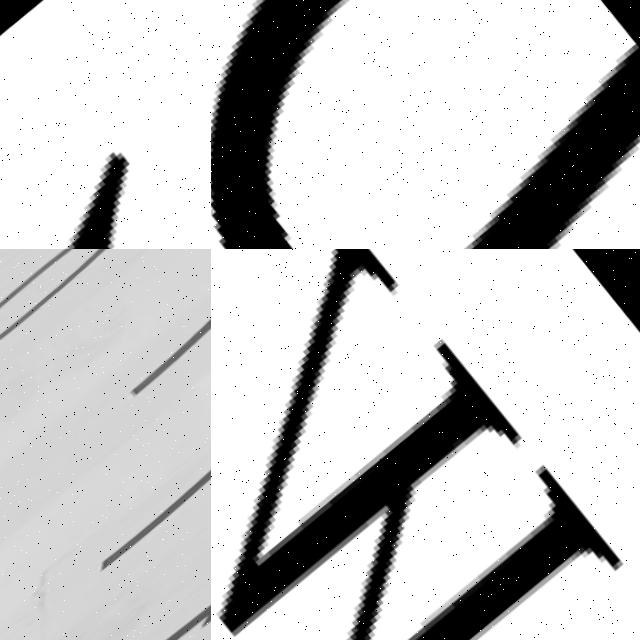0: (0, 249, 161, 402)
1: (93, 535, 211, 640)
7: (94, 408, 211, 586), (119, 249, 211, 409)
D: (211, 0, 640, 249)
W: (211, 249, 640, 640)
